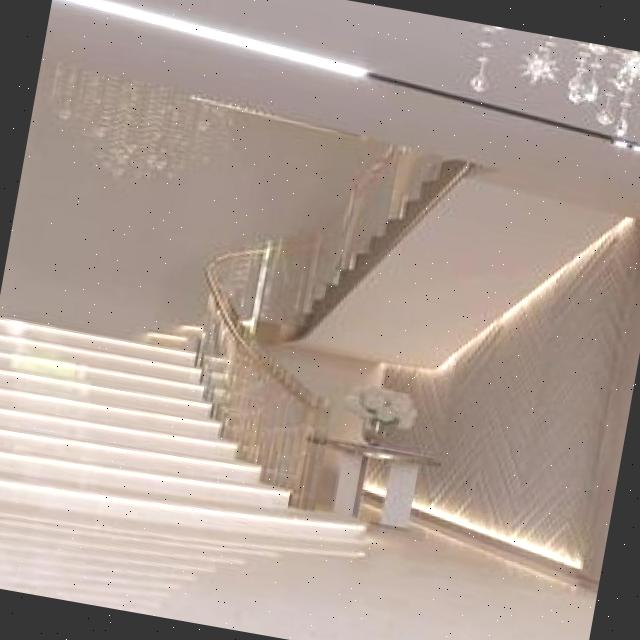stairs: (0, 286, 401, 640)
